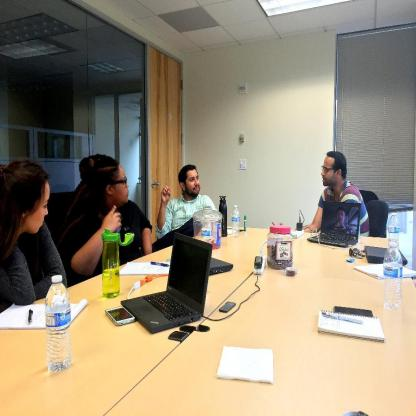board: (118, 233, 209, 337), (46, 275, 72, 372), (308, 202, 362, 246), (103, 228, 134, 297), (383, 240, 402, 311), (387, 212, 400, 258), (209, 256, 233, 274), (219, 195, 228, 237), (202, 216, 212, 245), (232, 204, 240, 236)
